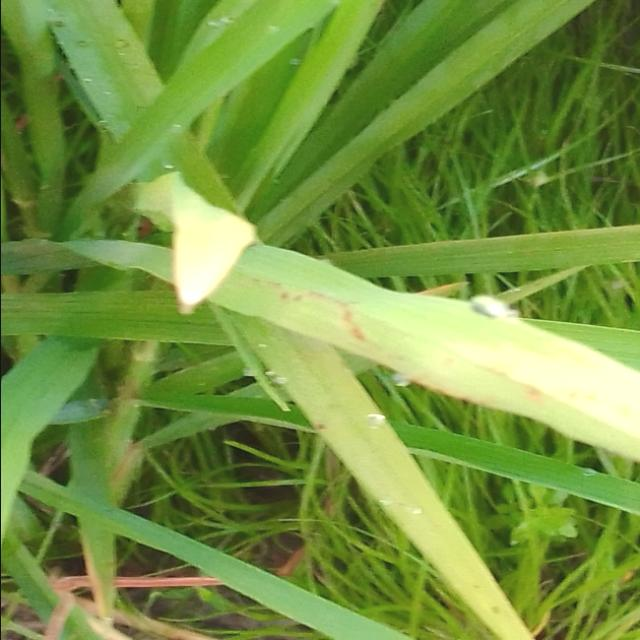brown spot: (197, 254, 640, 476)
